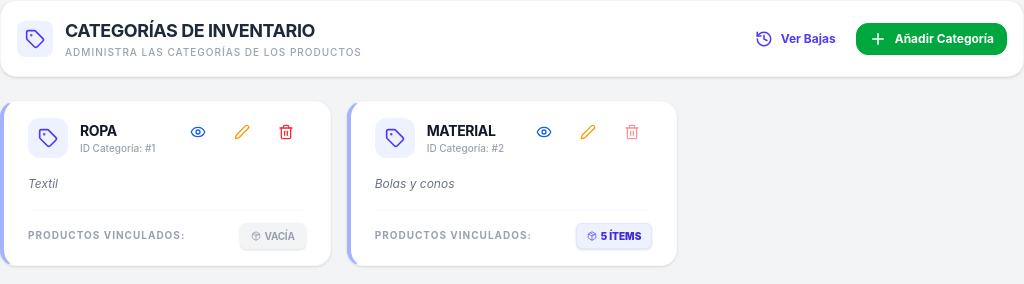
CategoriesSection › debe cambiar al modo historial y mostrar las bajas
Expected: the heading "Ropa" is shown, [80,122,117,138]
Click the button "Ver Bajas".
click(795, 38)  # box [743,24,848,54]
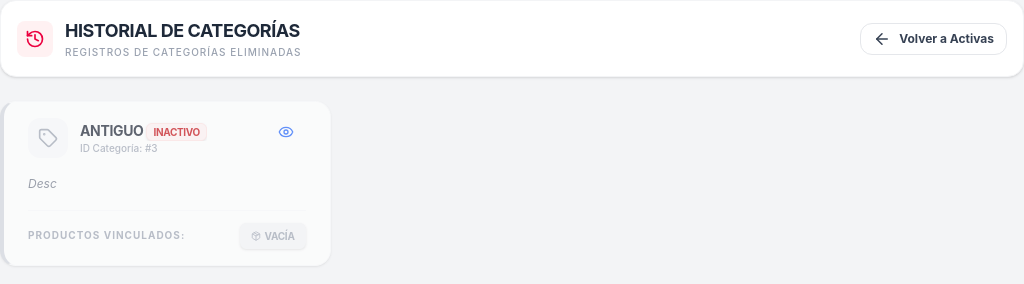
Now the heading "Historial de Categorías" is shown, box [65,17,302,45]
Now the heading "Antiguo INACTIVO" is shown, box [80,120,207,140]
